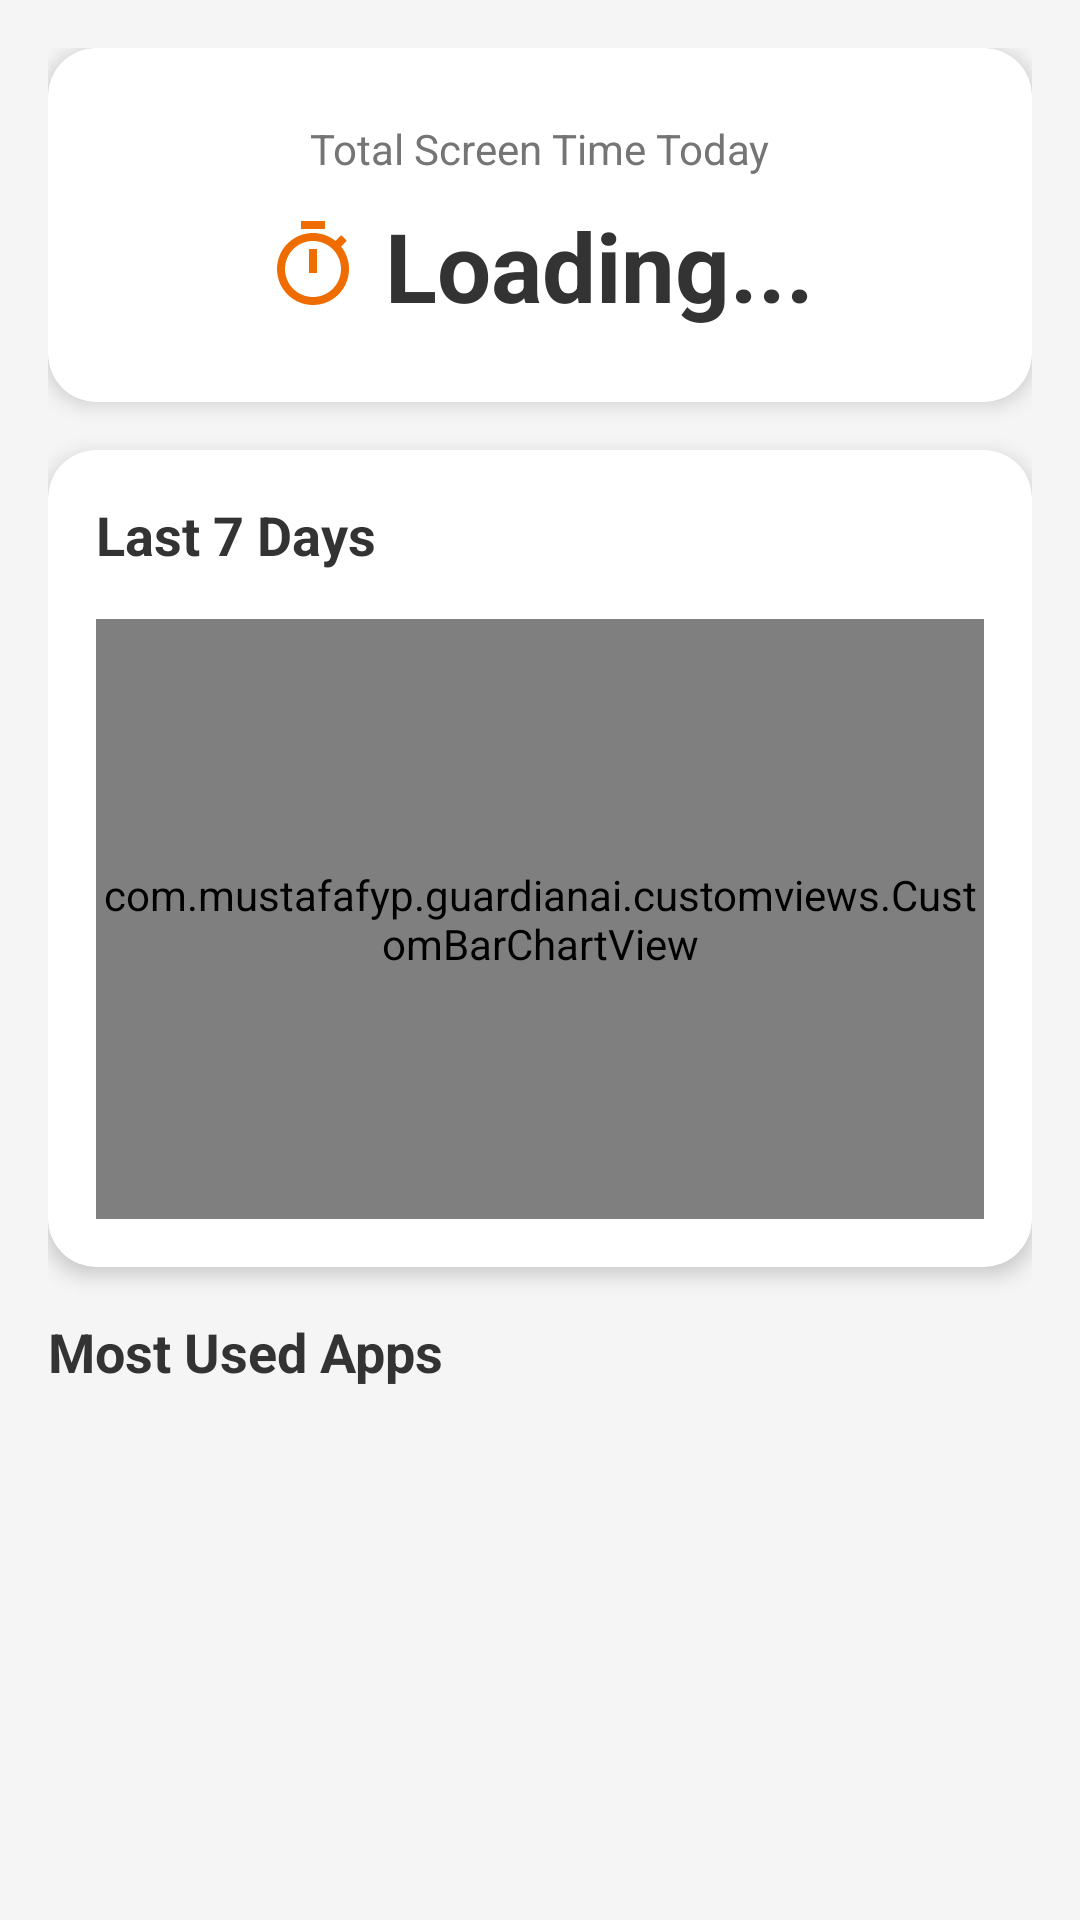

Icon click points for this 1080w x 1920h phone screenshot, format (x=x, y=y):
timer: (x=313, y=263)
